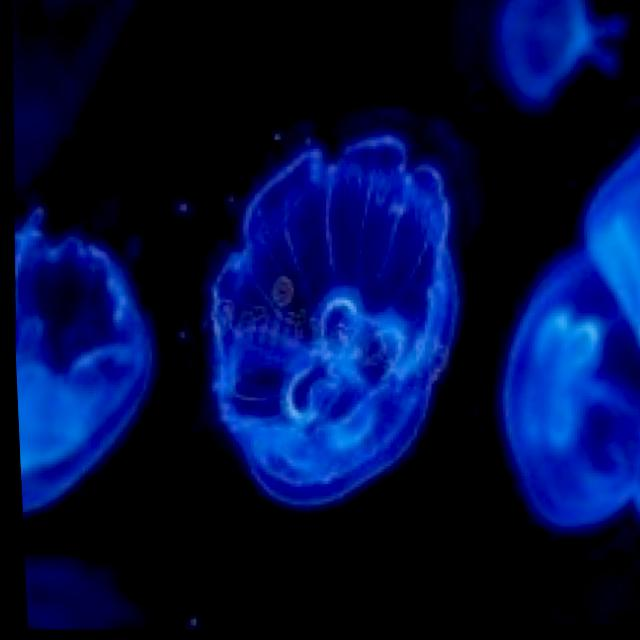Moon-jellyfish: (191, 121, 472, 516), (7, 190, 164, 521)
